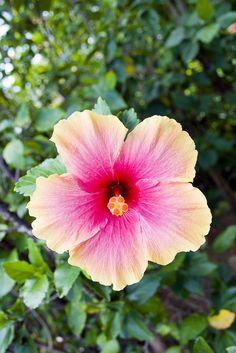Hibiscus: (32, 93, 214, 296)
